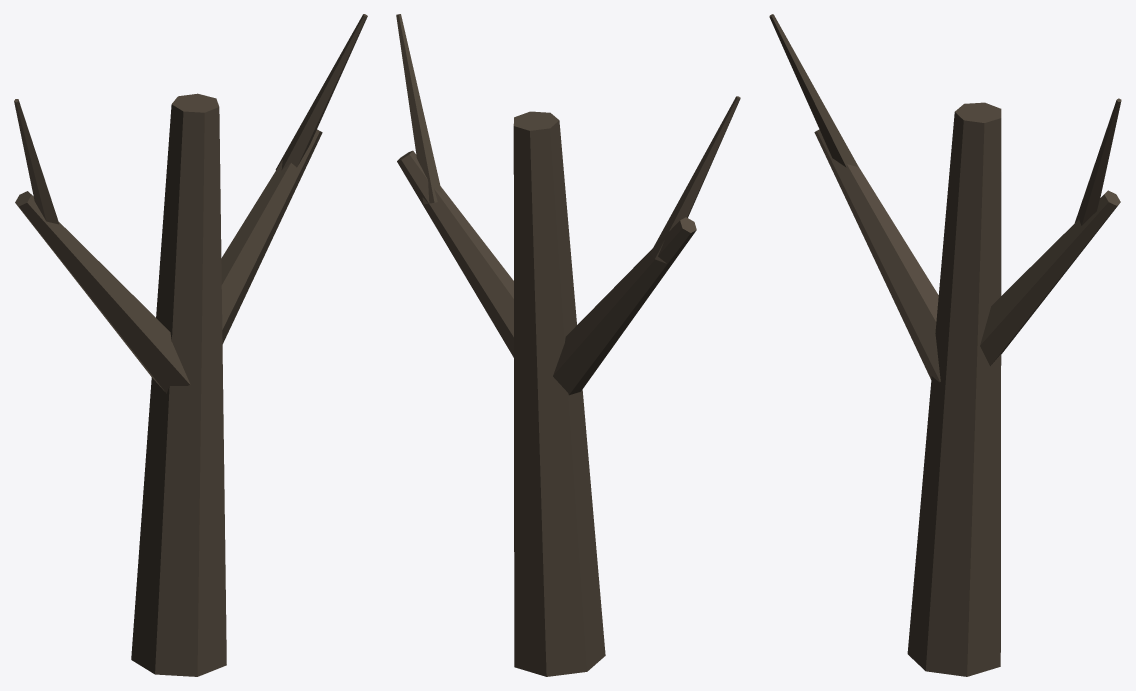
File: NAT_Tree_02_Dead.glb
The picture shows the model from 3 angles, left to right: view 1: azimuth 30°, elevation 25°; view 2: azimuth 150°, elevation 25°; view 3: azimuth 330°, elevation 25°; orthographic projection. The views are drawn at different scales.
Visible parts, largest first — view 1: NAT_Tree_02_Dead; view 2: NAT_Tree_02_Dead; view 3: NAT_Tree_02_Dead.
Boxes of the visible parts, x1=… form: NAT_Tree_02_Dead: x1=14, y1=14, x2=367, y2=676; NAT_Tree_02_Dead: x1=396, y1=14, x2=740, y2=676; NAT_Tree_02_Dead: x1=769, y1=14, x2=1121, y2=676.
Bounding box in the file's own units: 1.82 × 3.01 × 0.428.
